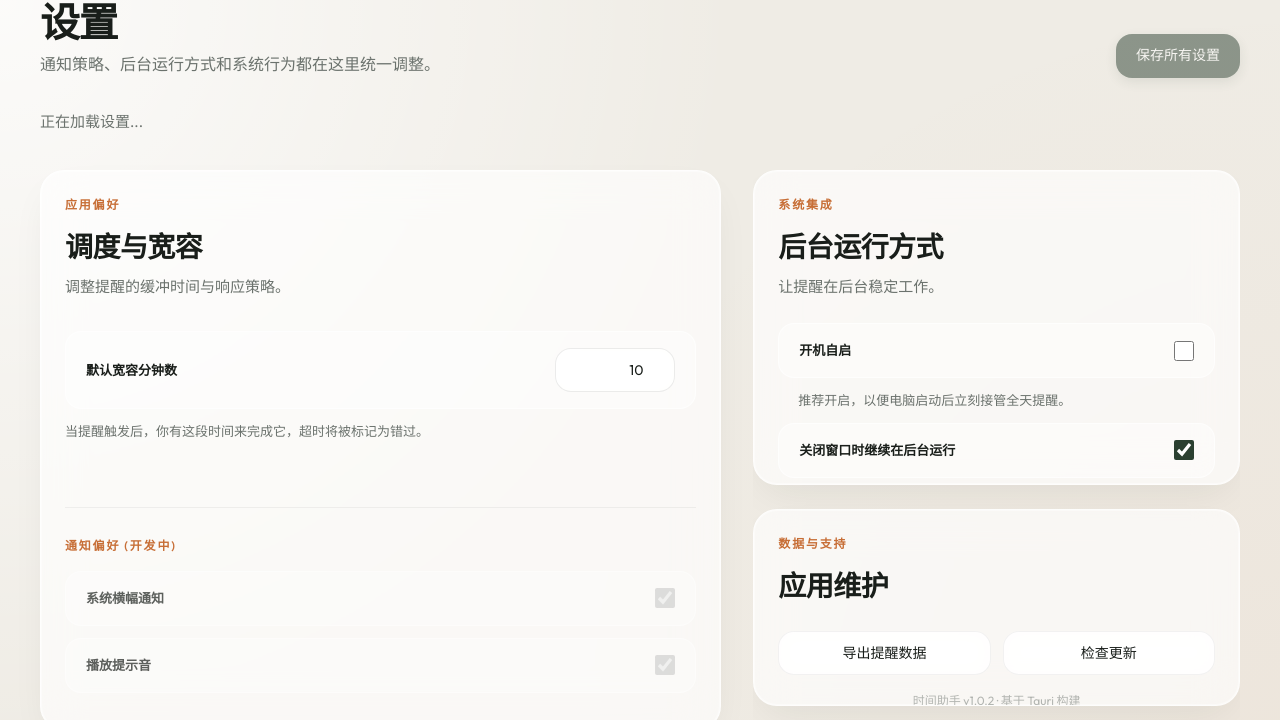
SettingsPage › updates grace minutes input value
The image size is (1280, 720).
Replace the text in the number field named "默认宽容时间" with "15" at {"x": 615, "y": 370}, box [555,348,675,392]
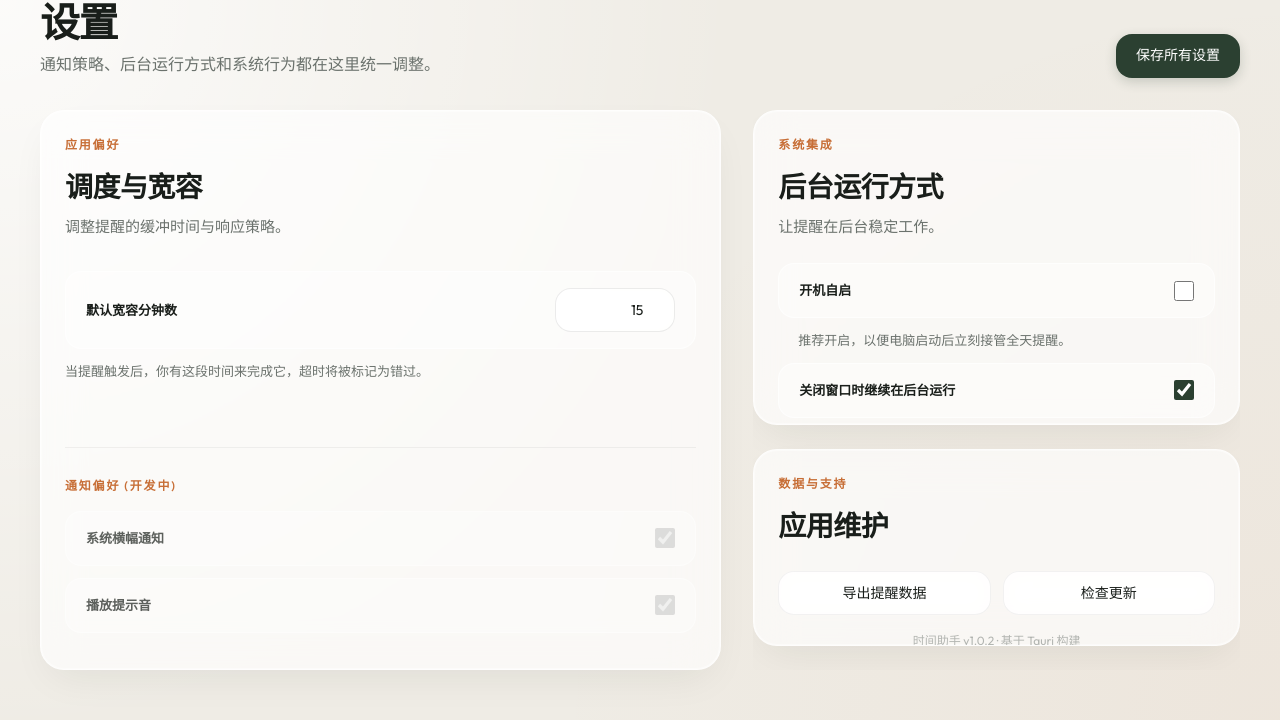
Click the button "保存所有设置" at {"x": 1178, "y": 56}, box [1116,34,1240,78]
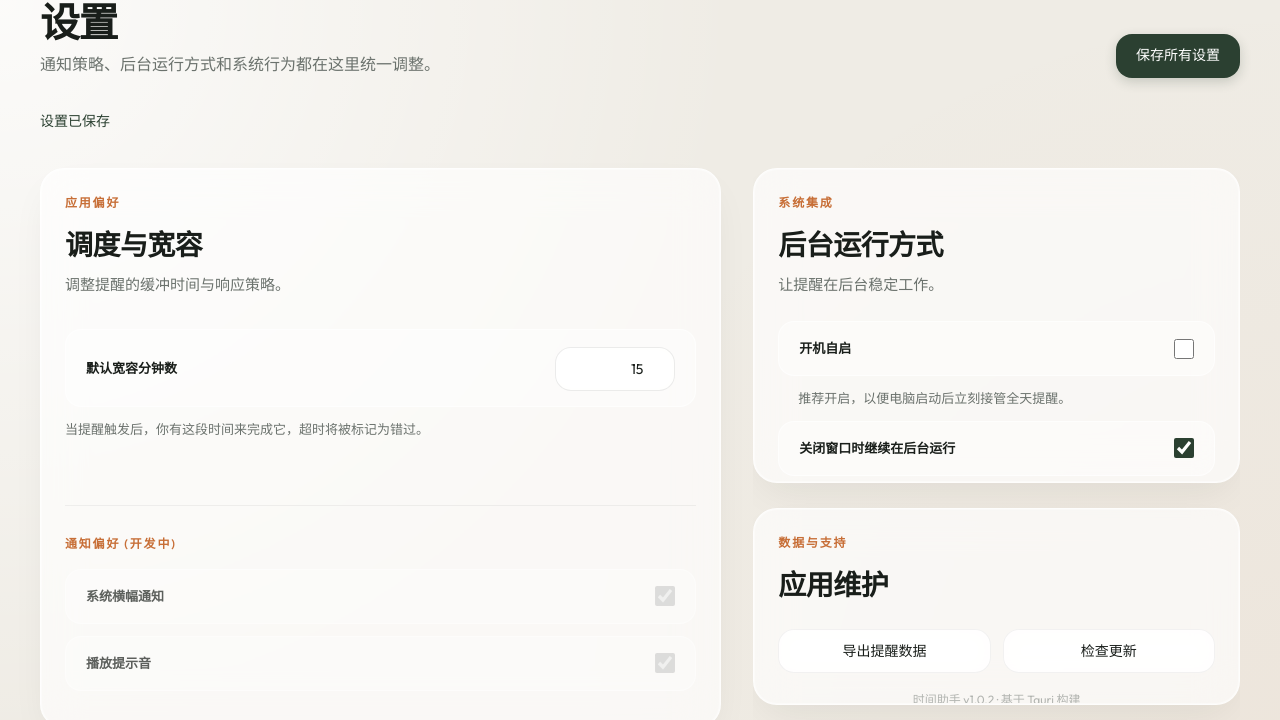
Expected: the text "设置已保存" is shown, [40,112,110,130]
